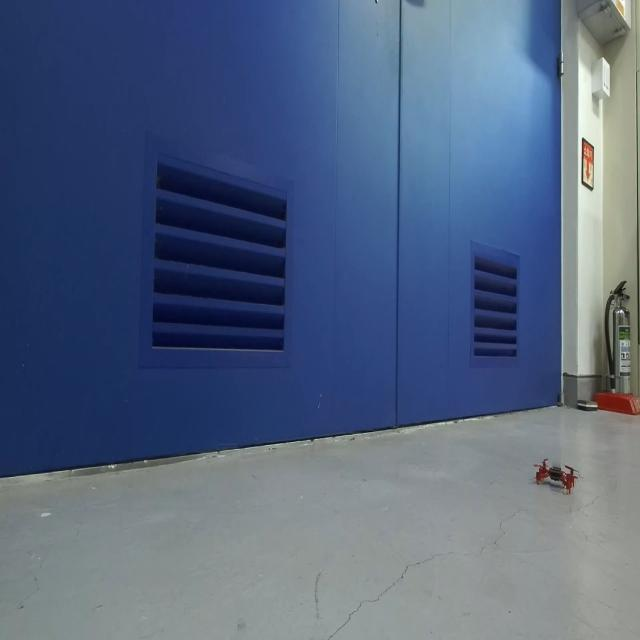crazyflie: (532, 451, 581, 495)
